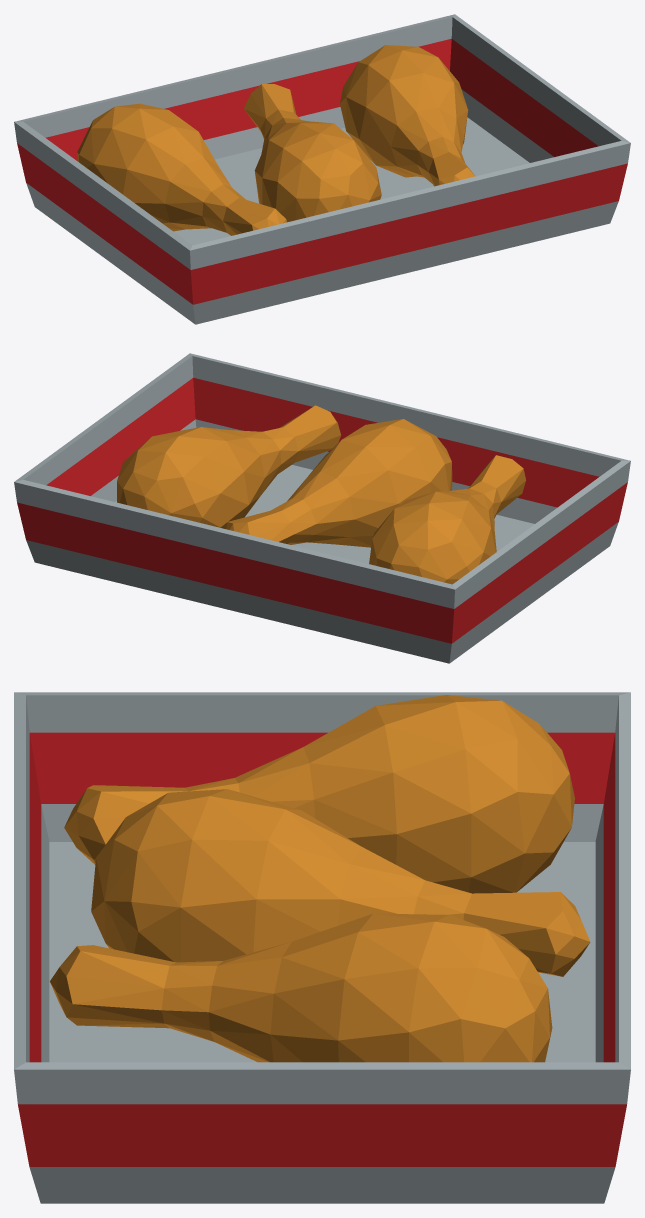
The model's file is Fried_Chicken.fbx.
3 views of the same model, one above another, from view 1: azimuth 30°, elevation 25°; view 2: azimuth 150°, elevation 25°; view 3: azimuth 270°, elevation 25° (orthographic). The views are drawn at different scales.
Visible parts, largest first — view 1: Fried_Chicken; view 2: Fried_Chicken; view 3: Fried_Chicken.
Boxes of the visible parts, <box> form: Fried_Chicken: <box>14,14,630,324</box>; Fried_Chicken: <box>14,353,630,663</box>; Fried_Chicken: <box>14,692,630,1203</box>.
Size of the model in its own units: 18.86 by 4.67 by 13.03.
